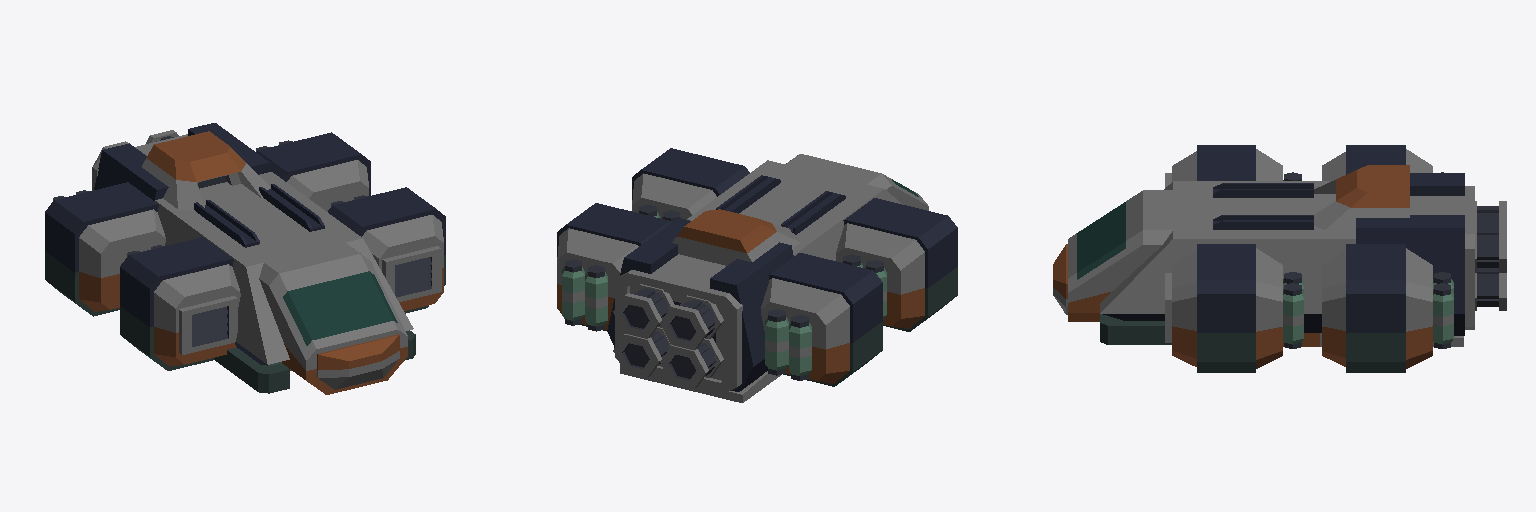
The picture shows the model from 3 angles: view 1: azimuth 30°, elevation 25°; view 2: azimuth 150°, elevation 25°; view 3: azimuth 270°, elevation 25°; orthographic projection.
Visible parts, largest first — view 1: mergedBlocks; view 2: mergedBlocks; view 3: mergedBlocks.
Part boxes in pixels (bbox=[...]): mergedBlocks: bbox=[45, 123, 445, 394]; mergedBlocks: bbox=[557, 148, 957, 402]; mergedBlocks: bbox=[1053, 145, 1506, 372].
Size of the model in its own units: 3.2 by 1.5 by 4.24.
1 materials, 1 textured.